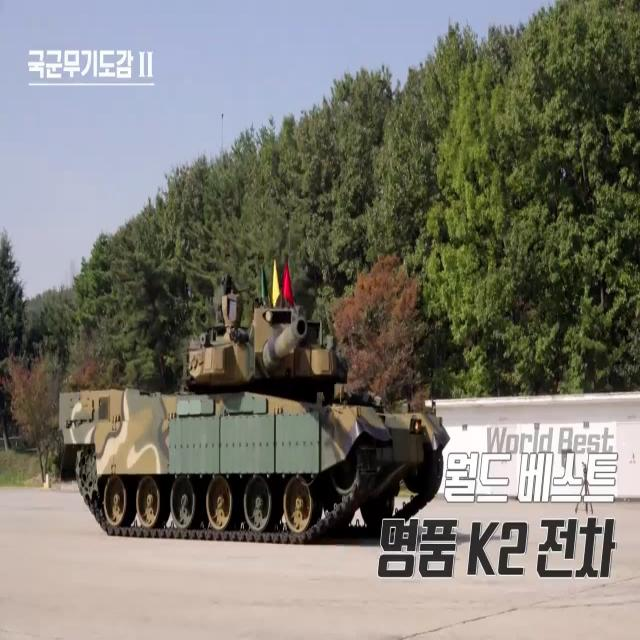korea tank: (56, 276, 452, 548)
